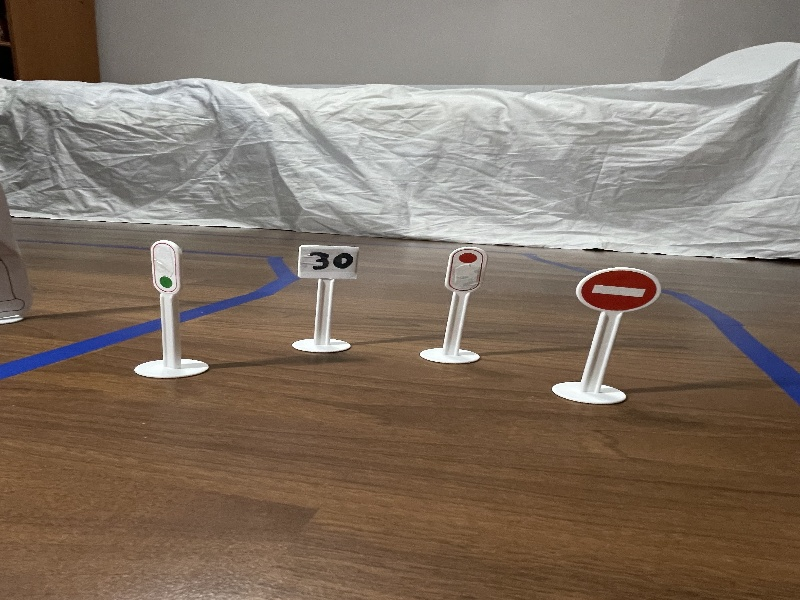interzis: (573, 259, 669, 318)
semafor_rosu: (441, 240, 489, 298)
semafor_verde: (145, 232, 187, 296)
viteza_limita_30: (294, 239, 364, 287)
